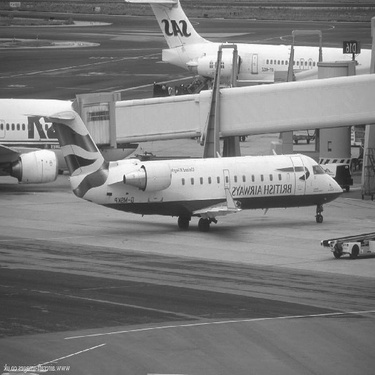airplane: (39, 97, 344, 233), (113, 1, 373, 84), (1, 90, 145, 177), (326, 107, 329, 147)
